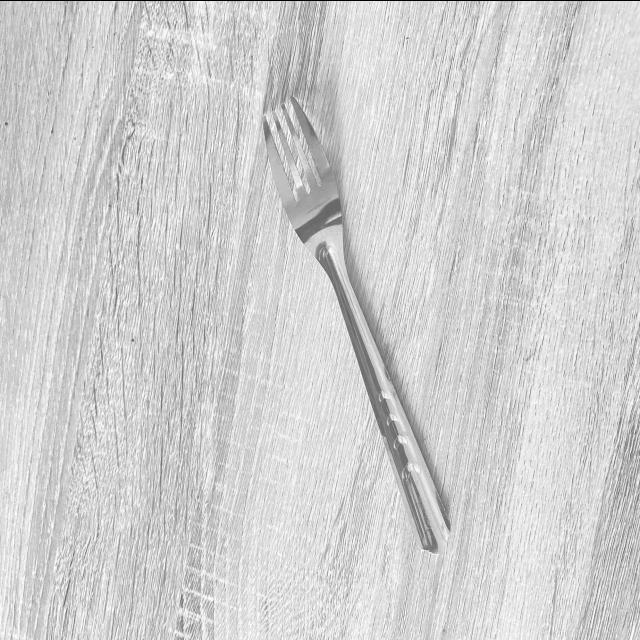fork: (258, 80, 454, 570)
